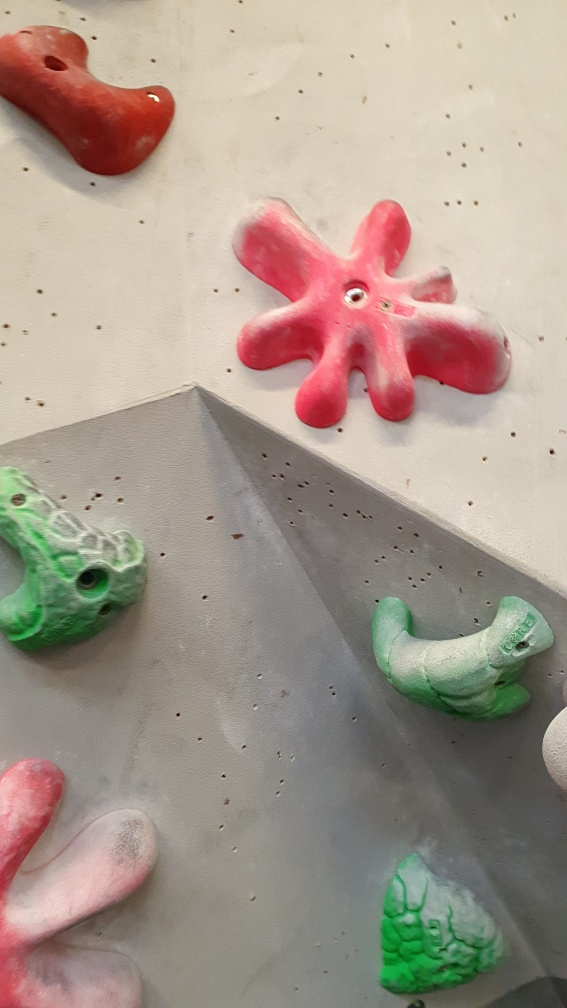Jug: (367, 587, 556, 729), (376, 845, 515, 998)
Octopus Pinch: (227, 196, 513, 434), (1, 747, 166, 1007)
